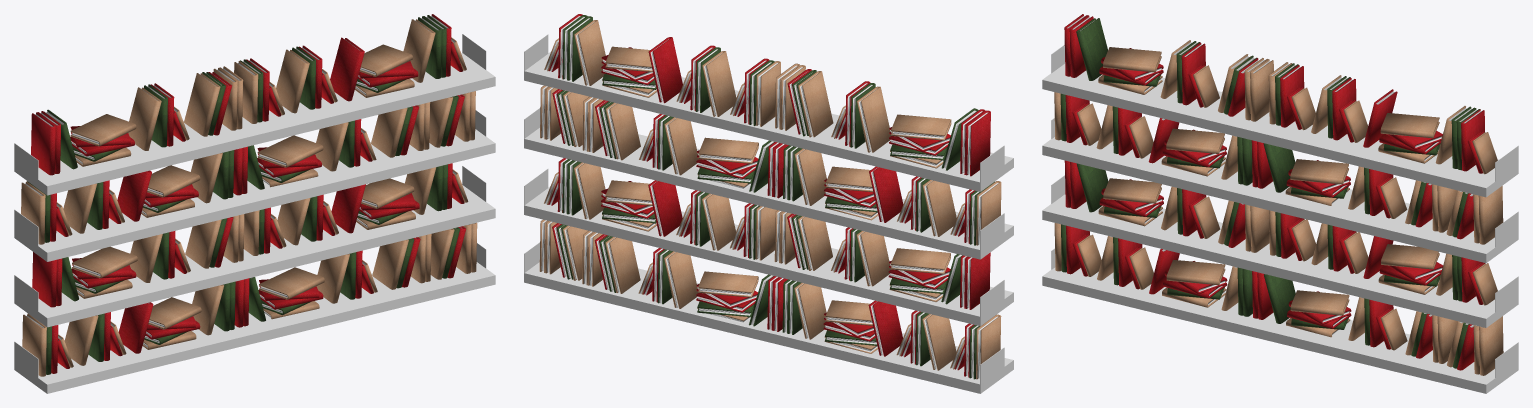
The model's file is libreriaBajaConTexturas.fbx.
The picture shows the model from 3 angles, left to right: view 1: azimuth 30°, elevation 25°; view 2: azimuth 150°, elevation 25°; view 3: azimuth 330°, elevation 25°; orthographic projection. The views are drawn at different scales.
Visible parts, largest first — view 1: estanteriaBAJA.001, libro.334, libro.366, libro.361, libro.326, libro.384, libro.325, libro.354, libro.466, libro.407, libro.367, libro.431 (+61 smaller); view 2: estanteriaBAJA.001, libro.334, libro.326, libro.366, libro.361, libro.367, libro.393, libro.385, libro.467, libro.475, libro.344, libro.443 (+68 smaller); view 3: estanteriaBAJA.001, libro.320, libro.466, libro.421, libro.339, libro.356, libro.384, libro.325, libro.407, libro.438, libro.355, libro.482 (+66 smaller).
Part boxes in pixels (x1,y1,x2,y2): estanteriaBAJA.001: (14,34,495,393); libro.334: (184,73,220,136); libro.366: (330,37,364,101); libro.361: (276,49,309,113); libro.326: (128,87,161,150); libro.384: (257,135,323,167); libro.325: (70,114,136,146); libro.354: (31,112,55,175); libro.466: (259,267,324,299); libro.407: (72,246,137,278); libro.367: (403,19,435,82); libro.431: (118,302,153,353); estanteriaBAJA.001: (524,34,1013,393); libro.334: (798,71,833,137); libro.326: (856,86,890,152); libro.366: (648,37,682,103); libro.361: (702,51,736,116); libro.367: (574,20,605,85); libro.393: (605,102,640,160); libro.385: (664,117,698,175); libro.467: (664,251,698,308); libro.475: (605,236,640,293); libro.344: (922,179,956,236); libro.443: (701,193,735,250); estanteriaBAJA.001: (1042,45,1518,393); libro.320: (1076,18,1107,80); libro.466: (1290,290,1349,315); libro.421: (1166,260,1225,285); libro.339: (1166,128,1224,153); libro.356: (1380,113,1439,138); libro.384: (1290,159,1348,184); libro.325: (1103,47,1161,72); libro.407: (1103,178,1161,203); libro.438: (1381,244,1439,269); libro.355: (1250,59,1273,121); libro.482: (1479,316,1503,375).
Bounding box in the file's own units: 404 × 221 × 53.83.
Materials: 73 (36 with a texture image).
